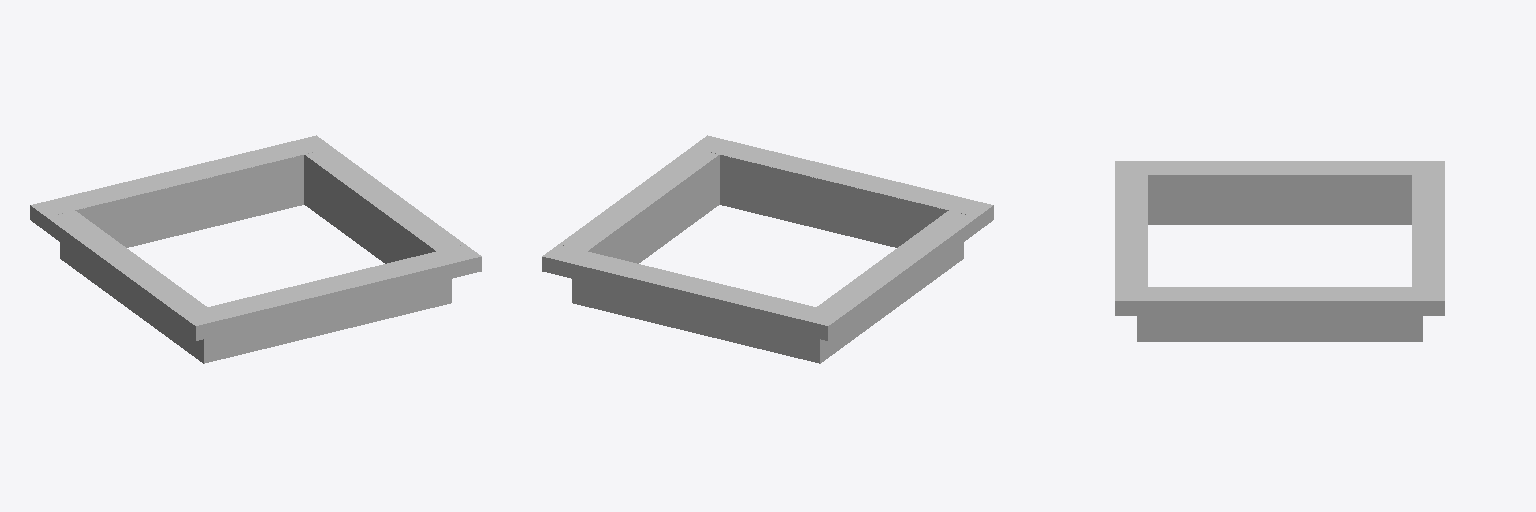
The model's file is levelbox.obj.
3 views of the same model, side by side, from view 1: azimuth 30°, elevation 25°; view 2: azimuth 150°, elevation 25°; view 3: azimuth 270°, elevation 25° (orthographic).
Visible parts, largest first — view 1: pCube9; view 2: pCube9; view 3: pCube9.
Part boxes in pixels (left/top/right/bottom): pCube9: left=30, top=135, right=481, bottom=363; pCube9: left=542, top=135, right=993, bottom=363; pCube9: left=1115, top=161, right=1444, bottom=341.
Bounding box in the file's own units: 60.03 × 10.07 × 60.02.